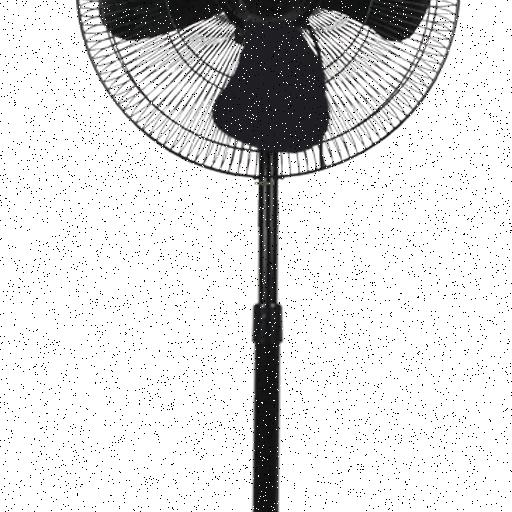Fan: (74, 0, 463, 178)
